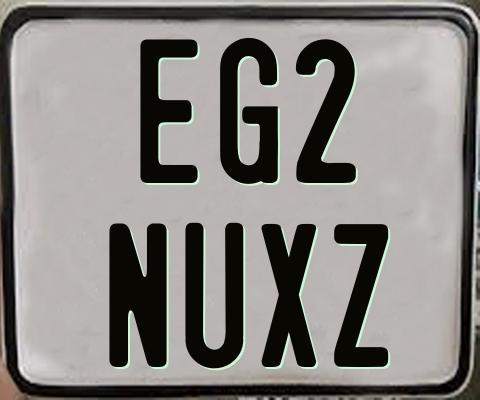2: (293, 37, 355, 184)
E: (140, 39, 202, 186)
G: (219, 36, 279, 186)
N: (106, 220, 168, 366)
U: (185, 221, 247, 371)
X: (259, 224, 316, 367)
Z: (334, 221, 393, 365)
